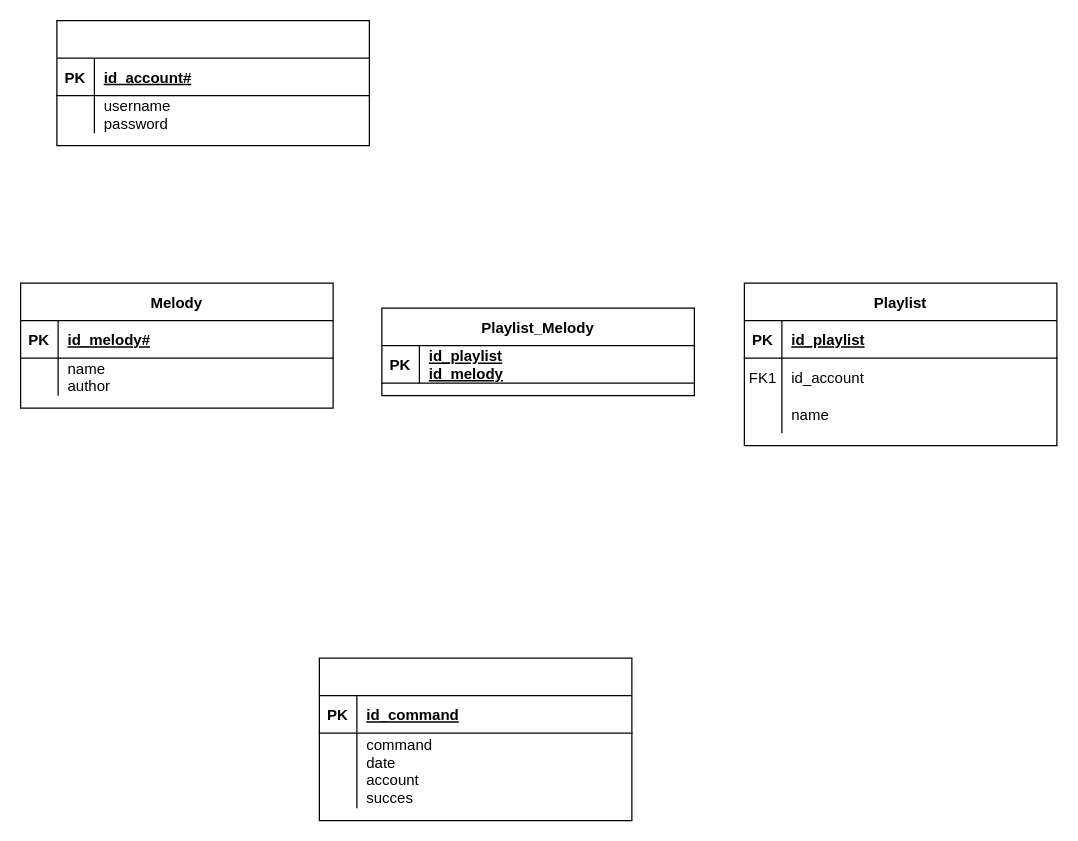
The diagram is 1078 pixels wide and 841 high, and some of its shapes have lost their labels. The shapes that lost their labels are listed below. From the top down, each one's box as (x1, y1, x2, y2) in pixels, then its label:
(56, 19, 369, 146): org.example.Account
(318, 657, 632, 821): Audit
